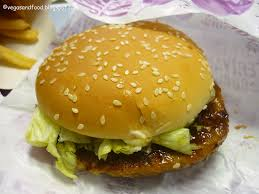hamburger: (31, 23, 238, 177)
